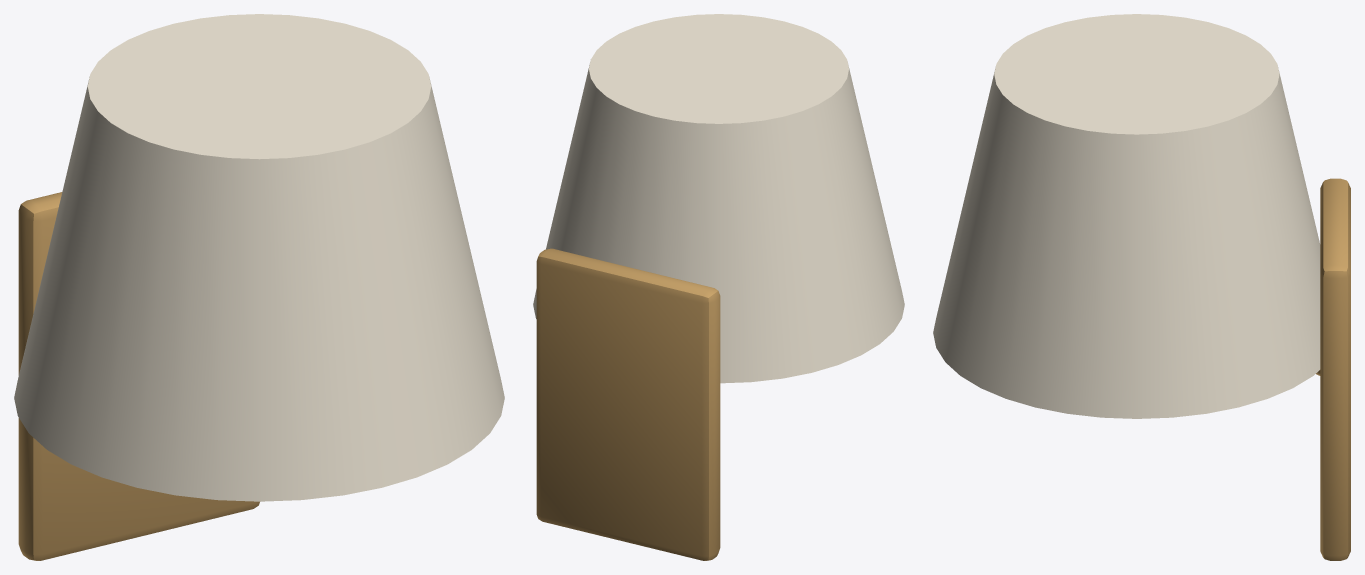
File: sconce.glb
3 renders of one model, left to right at view 1: azimuth 30°, elevation 25°; view 2: azimuth 150°, elevation 25°; view 3: azimuth 270°, elevation 25°, orthographic. The views are drawn at different scales.
Visible parts, largest first — view 1: cyl, box; view 2: cyl, box; view 3: cyl, box.
Boxes of the visible parts, left/top/right/bottom form: cyl: left=14, top=14, right=504, bottom=501; box: left=18, top=192, right=259, bottom=560; cyl: left=533, top=14, right=904, bottom=383; box: left=536, top=248, right=720, bottom=560; cyl: left=933, top=14, right=1320, bottom=418; box: left=1320, top=178, right=1350, bottom=560.
Size of the model in its own units: 20 by 24 by 20.5.
